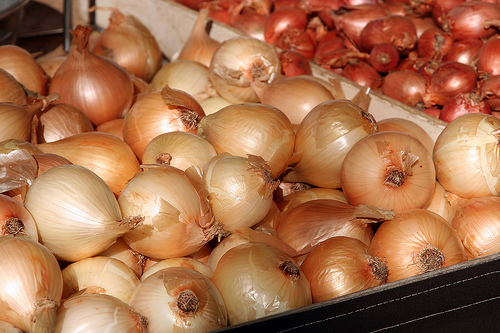onion: (25, 166, 144, 260), (213, 242, 312, 322), (341, 132, 435, 214), (204, 152, 282, 229), (424, 62, 480, 111)
